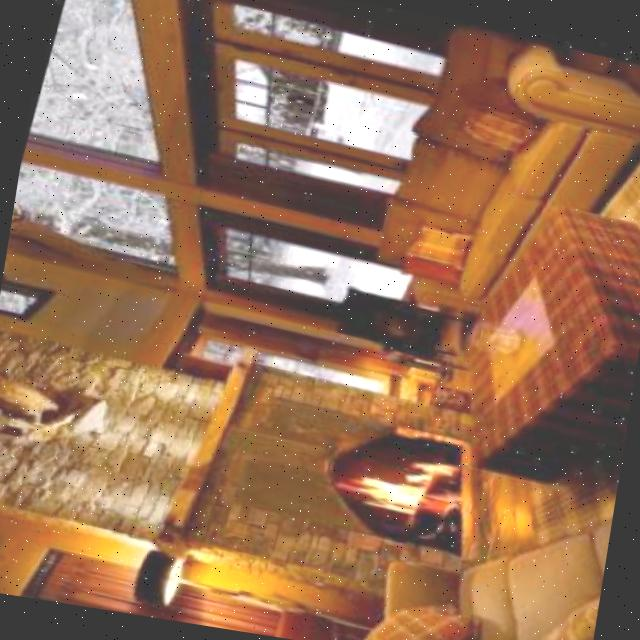fire: (337, 437, 467, 535)
